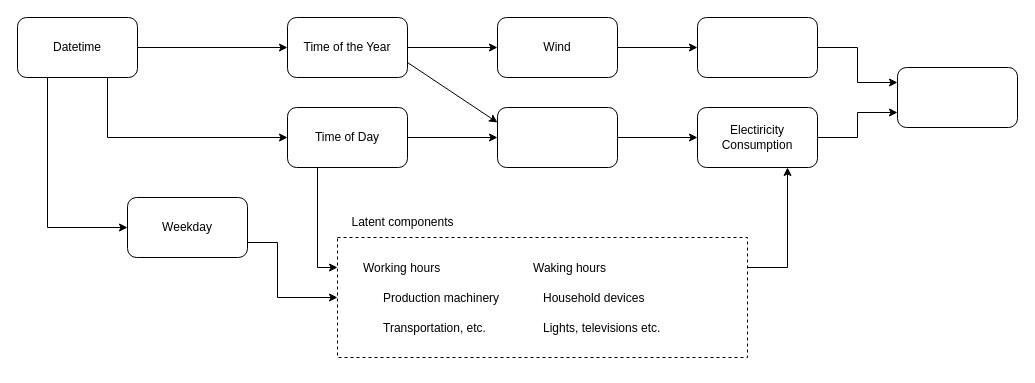
The diagram is 1035 pixels wide and 383 high, and some of its shapes have lost their labels. Each missing label, with the centre of its shape:
"Electricity Price" goes at point (957, 97).
"Electricity Production" goes at point (757, 47).
"Temperature" goes at point (557, 137).
